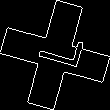L_W: (27, 33, 83, 77)
